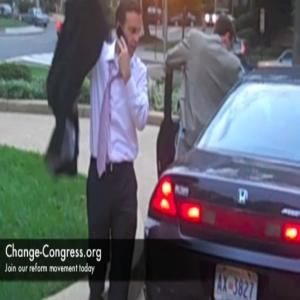Vehicle-registration-plate: (205, 263, 270, 294)
